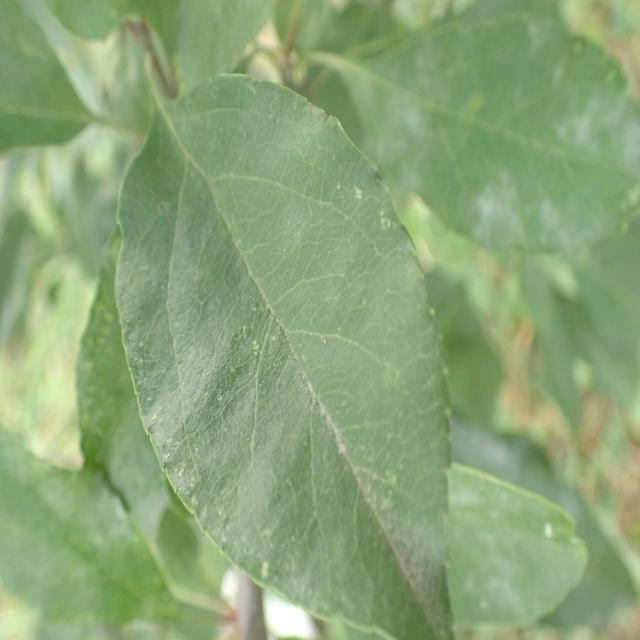Powdery_mildew: (121, 79, 459, 623), (548, 471, 548, 472)
